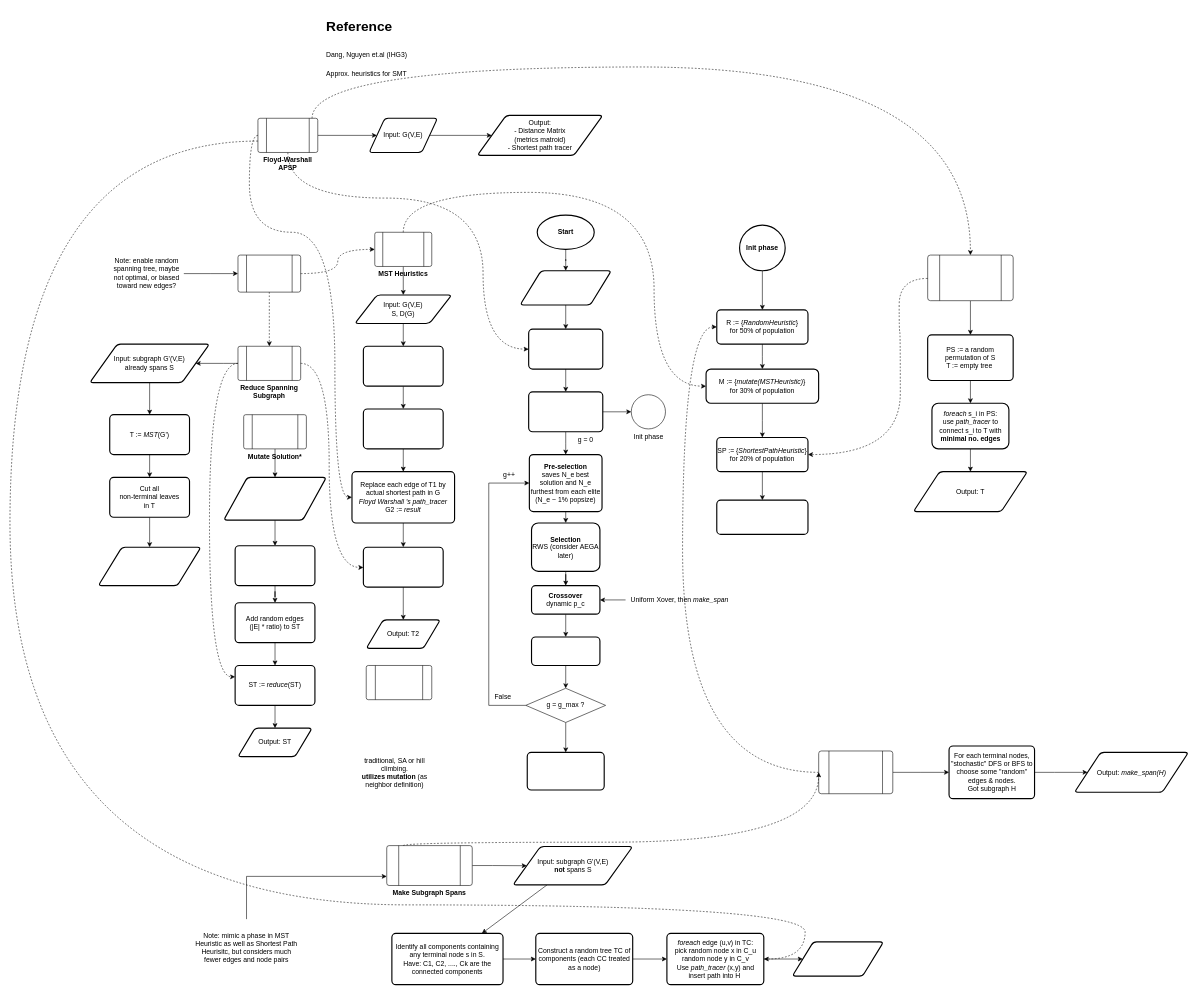
Some shapes in this 1199 by 995 pixel diagram are drawn without their labels. The centre of each missing label's shape, as x and y in pixels:
Induced subgraph G1 of D(S): point 403,365
Init population: P: point 565,411
Input: - Graph G(V,E) - Terminals set S: point 565,287
Input: ST(V'',E'') a Steiner tree solution: point 275,498
Local search: point 399,682
MST - Minimum Spanning Tree: point 269,273
Mutation: point 565,651
Output: candidate Steiner tree: point 149,566
Output: reduce (H): point 837,958
P = Union (M,R,SP): point 762,517
Pre-processing: - All-pair shortest path - Distance graph D(G): point 565,348
Random heuristic: point 855,772
ratio_change (chang-ing ratio) := 1%: point 274,565
Shortest Path heuristic: point 970,278
Simulated Annealing VNS change_rate: point 565,771
T1 := MST (G1): point 403,428
T2 := reduce (G1): point 403,566
